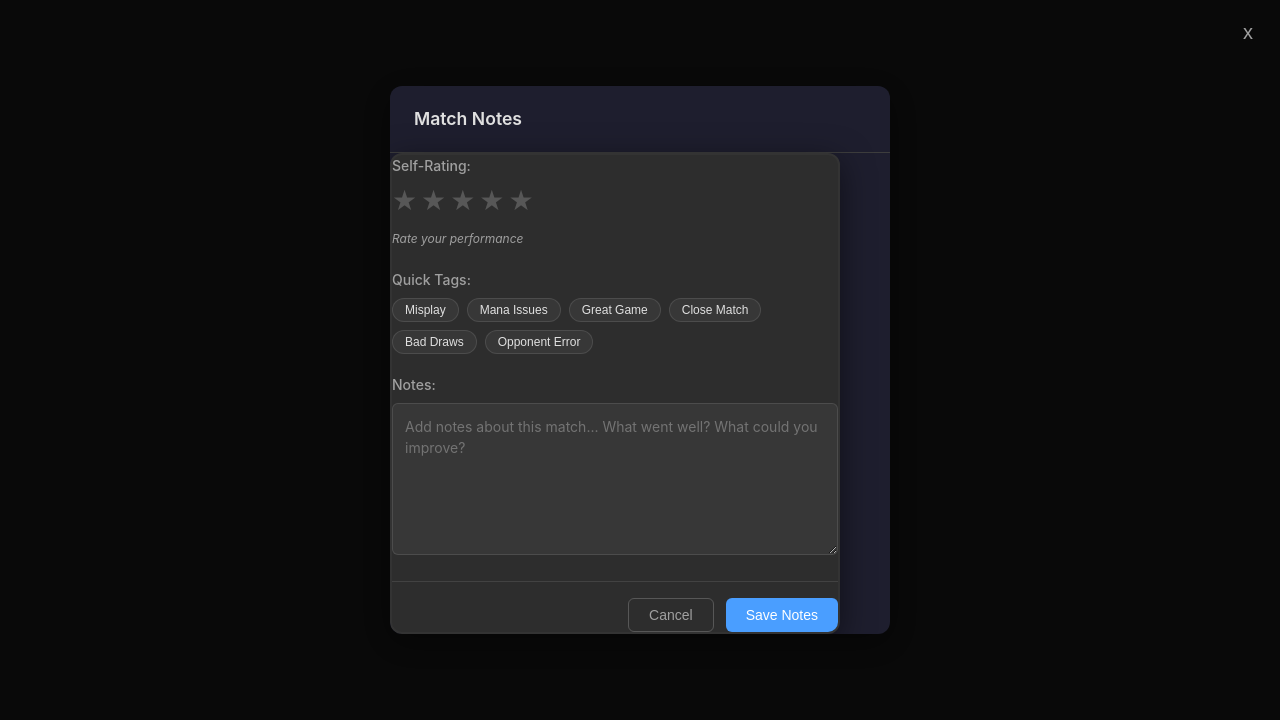
Test case: MatchNotesModal › Quick Tags › should append quick tag to notes when clicked
Click the button "Misplay": (425, 310) [392,298,459,322]
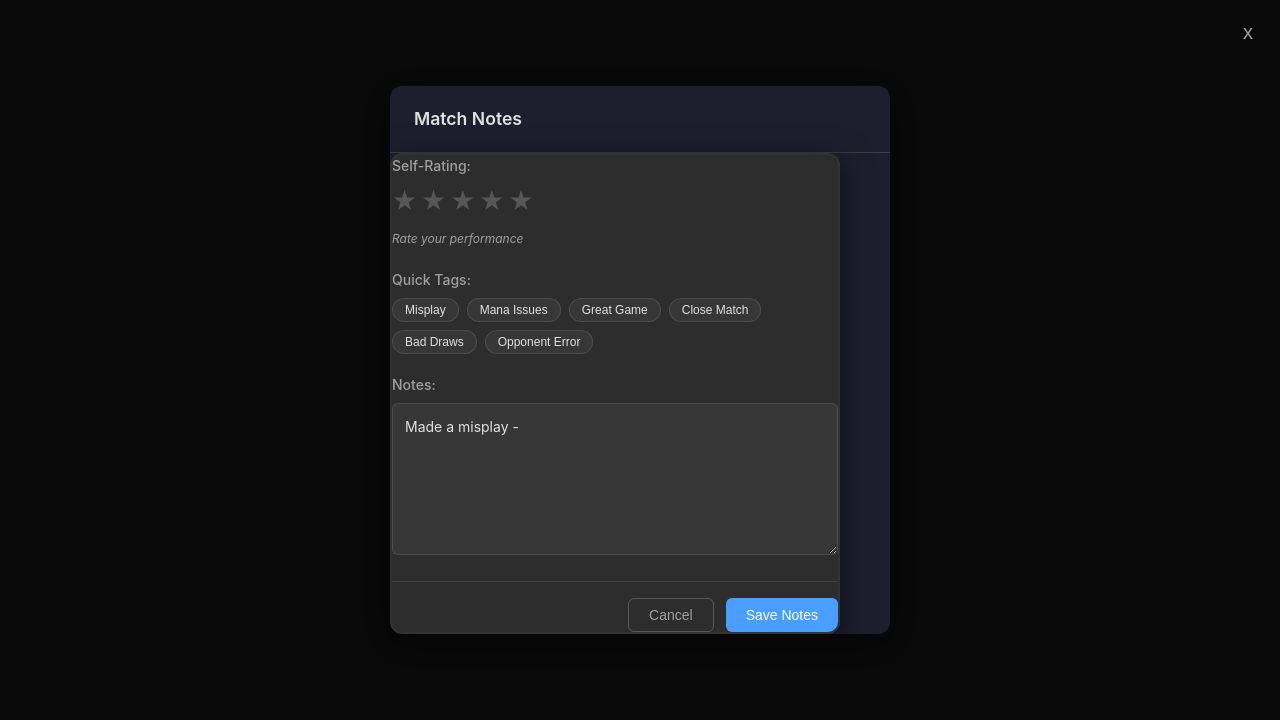
Check: the text box with placeholder "Add notes about this match" holds "Made a misplay - ", box [392,403,838,555]
